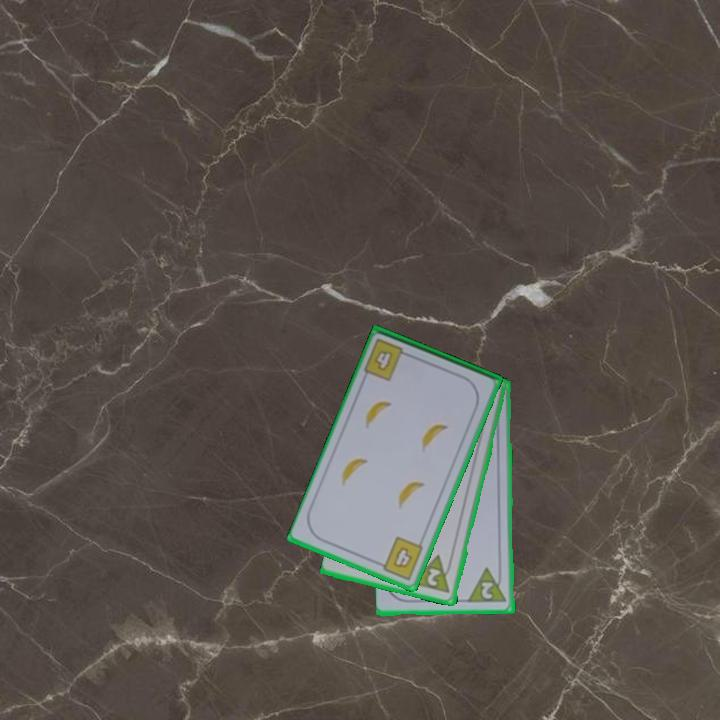2p: (410, 552, 456, 596), (478, 579, 496, 602)
4b: (374, 533, 426, 583), (361, 335, 414, 384)
